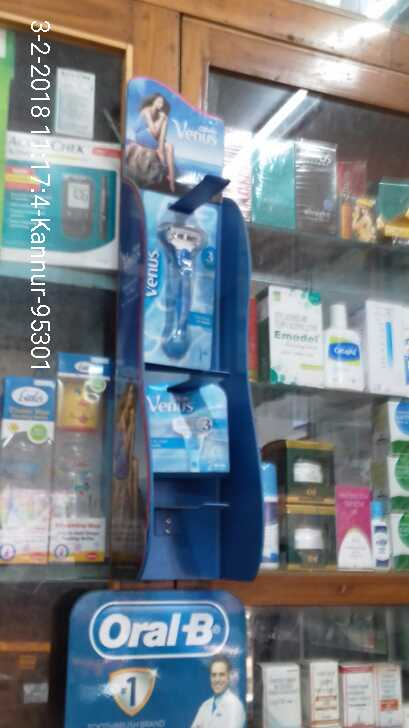venus: (146, 191, 222, 369), (142, 385, 236, 482)
